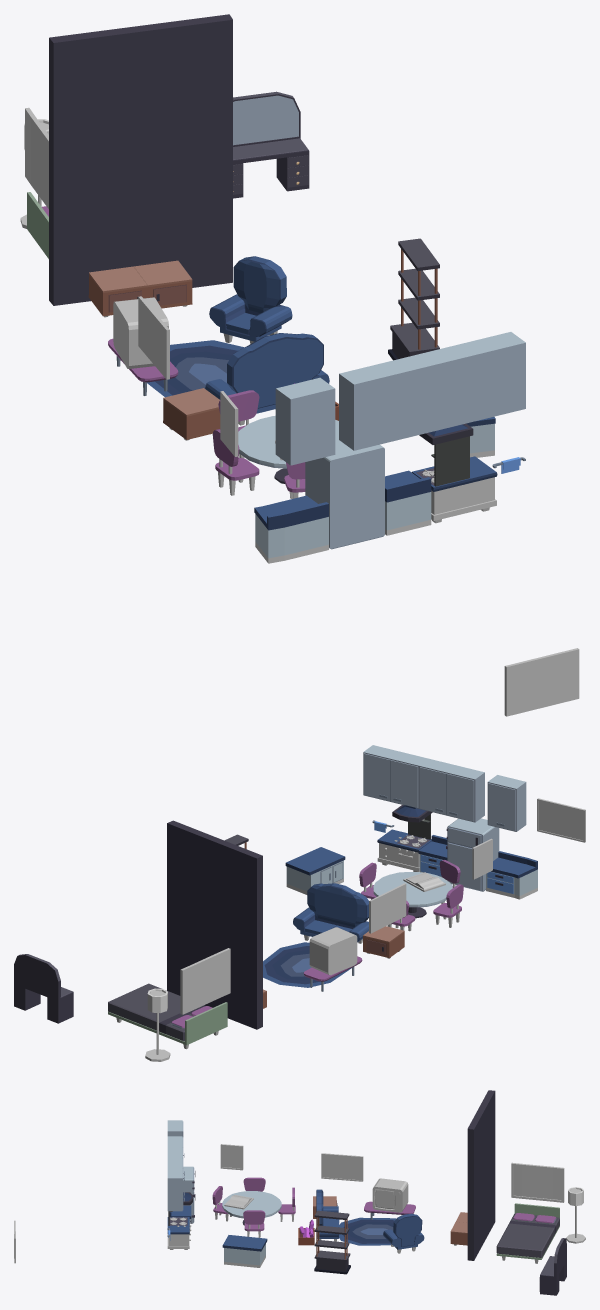
File: INTYeolsOldHome.fbx
The picture shows the model from 3 angles, top to bottom: view 1: azimuth 30°, elevation 25°; view 2: azimuth 150°, elevation 25°; view 3: azimuth 270°, elevation 25°; orthographic projection. The views are drawn at different scales.
Visible parts, largest first — view 1: Wall.008, KitchenCabinet.013, KitchenCabinet.011, KitchenFridge.004, MirroredVanity.001, Armchair.030, Stove.007, Armchair.001, KitchenCabinet.012, KitchenCounter.006, 4TierShelf.001, PhotoFrame.016 (+13 smaller); view 2: Wall.008, Armchair.030, MirroredVanity.001, PhotoFrame.014, Stove.007, BedMattress.004, KitchenIsland.001, RoundTV.003, RoundRug.002, PhotoFrame.016, KitchenCounter.006, DiningTableOval.001 (+21 smaller); view 3: Wall.008, PhotoFrame.014, BedMattress.004, 4TierShelf.001, RoundRug.002, KitchenIsland.001, PhotoFrame.013, RoundTV.003, Armchair.001, MirroredVanity.001, DiningTableOval.001, Stove.007 (+14 smaller).
Boxes of the visible parts, x1=… form: Wall.008: x1=49, y1=14, x2=232, y2=305; KitchenCabinet.013: x1=339, y1=353, x2=439, y2=450; KitchenCabinet.011: x1=425, y1=332, x2=525, y2=429; KitchenFridge.004: x1=305, y1=434, x2=384, y2=549; MirroredVanity.001: x1=233, y1=91, x2=309, y2=198; Armchair.030: x1=205, y1=333, x2=329, y2=425; Stove.007: x1=411, y1=423, x2=497, y2=523; Armchair.001: x1=209, y1=256, x2=292, y2=343; KitchenCabinet.012: x1=275, y1=377, x2=335, y2=465; KitchenCounter.006: x1=254, y1=495, x2=328, y2=563; 4TierShelf.001: x1=388, y1=238, x2=439, y2=360; PhotoFrame.016: x1=504, y1=648, x2=579, y2=716; Wall.008: x1=167, y1=820, x2=262, y2=1029; Armchair.030: x1=293, y1=883, x2=368, y2=943; MirroredVanity.001: x1=14, y1=954, x2=73, y2=1023; PhotoFrame.014: x1=180, y1=948, x2=230, y2=1014; Stove.007: x1=377, y1=805, x2=432, y2=871; BedMattress.004: x1=108, y1=983, x2=205, y2=1041; KitchenIsland.001: x1=285, y1=847, x2=345, y2=894; RoundTV.003: x1=309, y1=927, x2=357, y2=975; RoundRug.002: x1=263, y1=942, x2=351, y2=987; PhotoFrame.016: x1=537, y1=798, x2=585, y2=842; KitchenCounter.006: x1=486, y1=851, x2=537, y2=899; DiningTableOval.001: x1=373, y1=872, x2=452, y2=918; Wall.008: x1=467, y1=1090, x2=495, y2=1260; PhotoFrame.014: x1=511, y1=1162, x2=564, y2=1202; BedMattress.004: x1=496, y1=1213, x2=559, y2=1257; 4TierShelf.001: x1=314, y1=1210, x2=350, y2=1274; RoundRug.002: x1=339, y1=1217, x2=395, y2=1245; KitchenIsland.001: x1=222, y1=1235, x2=267, y2=1267; PhotoFrame.013: x1=321, y1=1153, x2=363, y2=1181; RoundTV.003: x1=372, y1=1178, x2=408, y2=1212; Armchair.001: x1=383, y1=1213, x2=424, y2=1253; MirroredVanity.001: x1=539, y1=1238, x2=566, y2=1295; DiningTableOval.001: x1=222, y1=1191, x2=281, y2=1225; Stove.007: x1=167, y1=1192, x2=192, y2=1249.
Bounding box in the file's own units: 1434 × 1054 × 3403.
